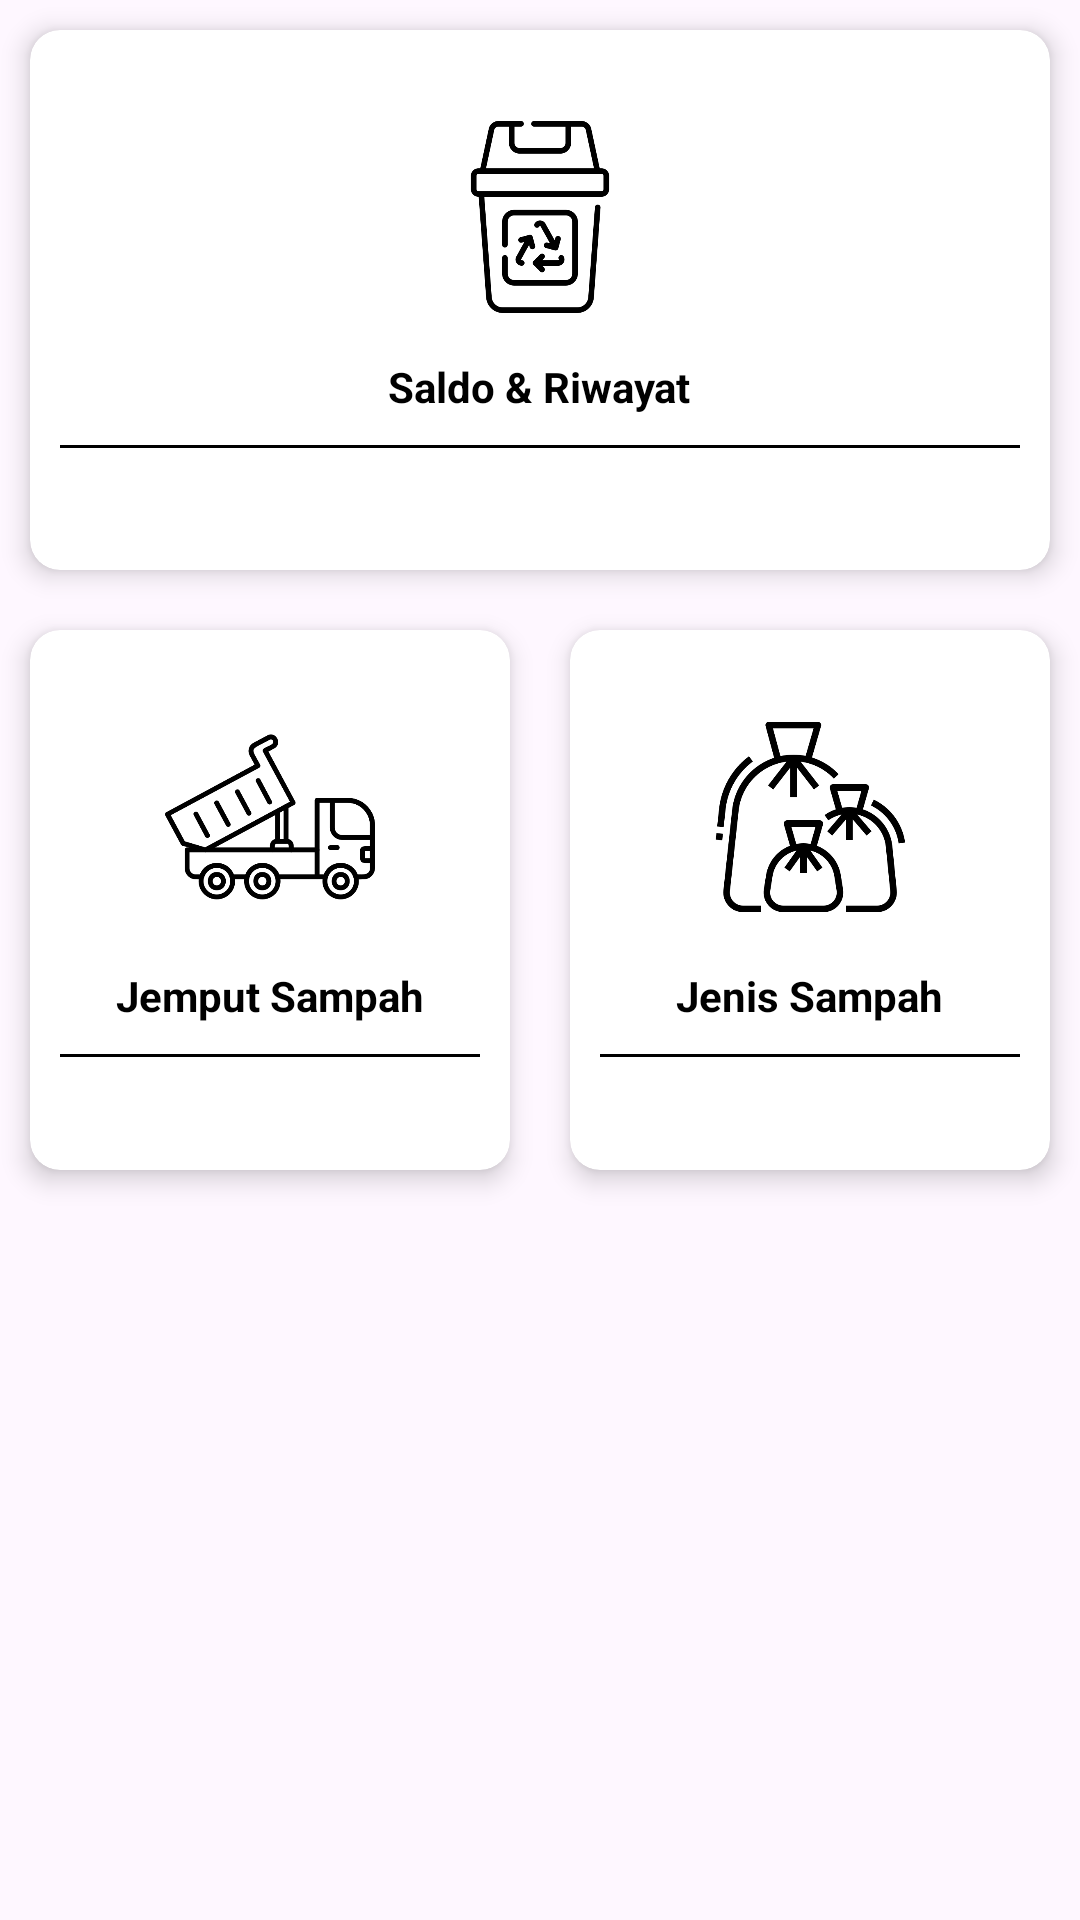

Icon bounding boxes for this 1080x1920 phone screenshot, format (x1, y1, x2, y2):
dump: (165, 734, 375, 900)
trash: (471, 121, 609, 313)
